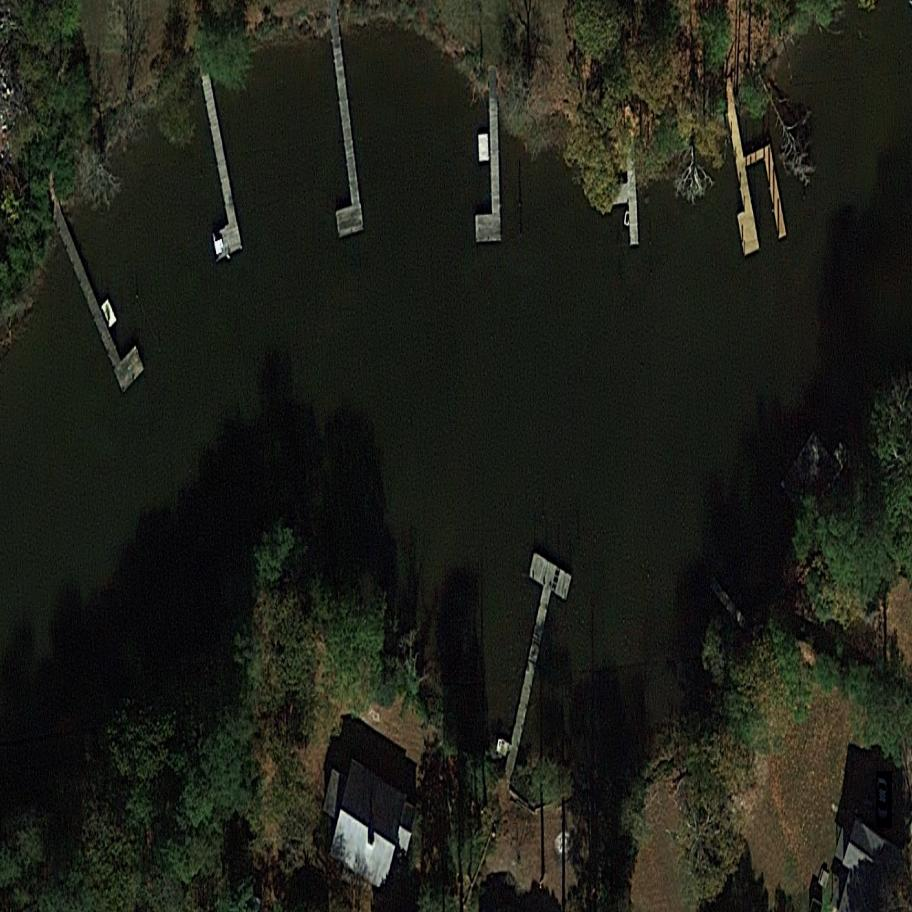small-vehicle: (876, 771, 891, 828)
